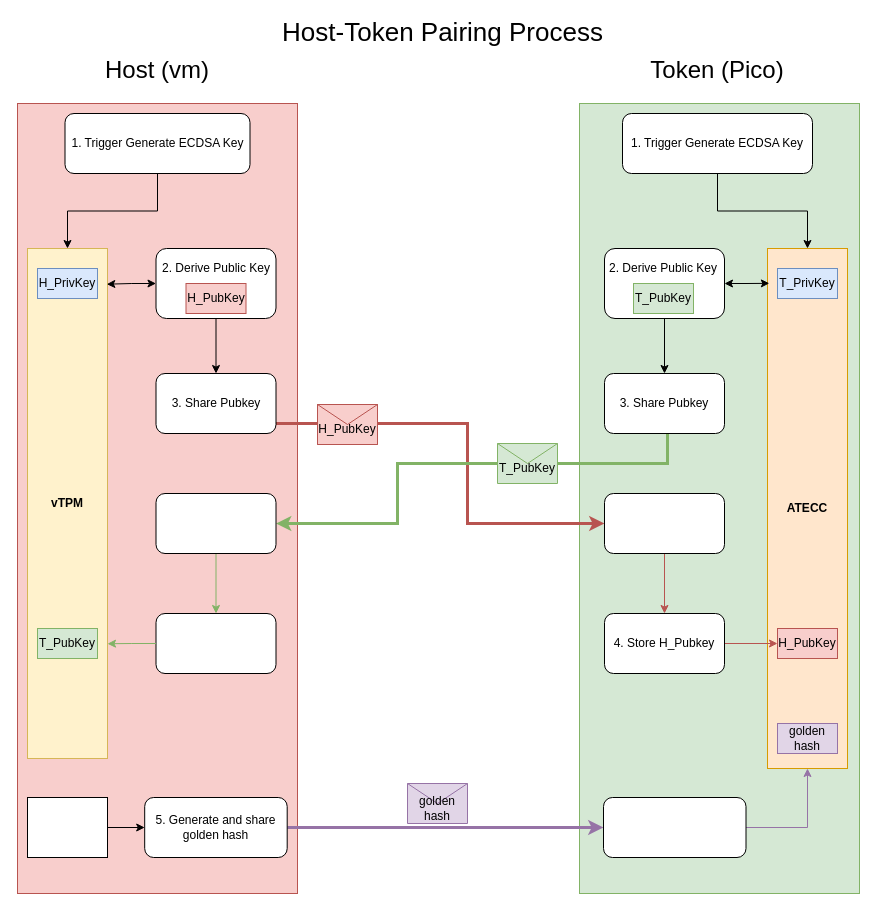
Image size: 877x911. Some labels were removed from this diagram. Here are the shapes that lost their labels. From the top down, the centre of each, then its label:
the point at 215,523: 4. Receive T_Pubkey
the point at 664,523: 4. Receive H_Pubkey
the point at 215,643: 4. Store T_Pubkey
the point at 67,827: /boot/test-file
the point at 674,827: 5. Receive and store golden hash
